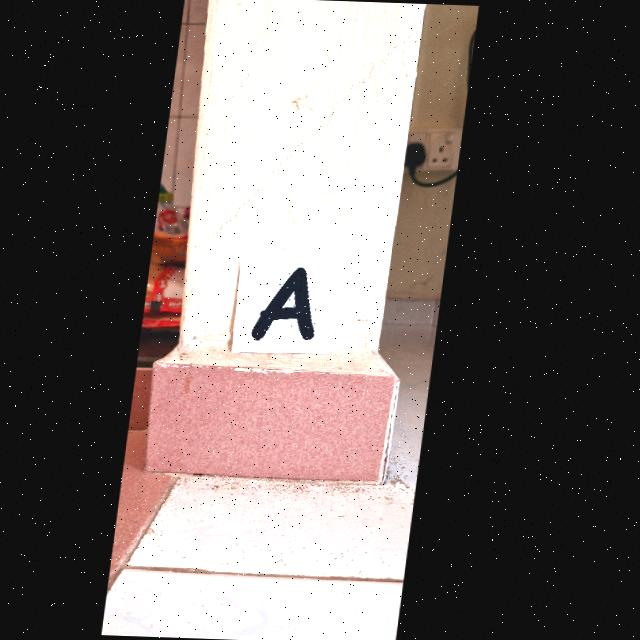A: (257, 267, 320, 341)
